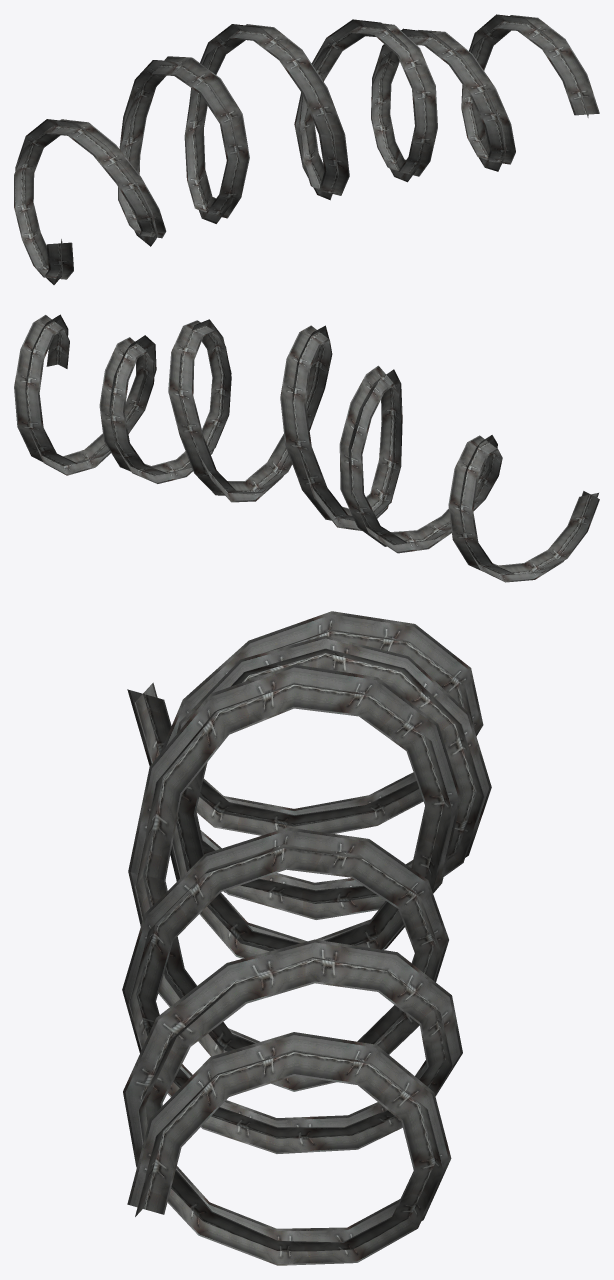
Rendered from Barbed_wire1.fbx.
The picture shows the model from 3 angles, top to bottom: view 1: azimuth 30°, elevation 25°; view 2: azimuth 150°, elevation 25°; view 3: azimuth 270°, elevation 25°; orthographic projection. The views are drawn at different scales.
Visible parts, largest first — view 1: polySurface329; view 2: polySurface329; view 3: polySurface329.
Boxes of the visible parts, x1,y1,x2,y2 form: polySurface329: (14,14,599,284); polySurface329: (14,314,599,582); polySurface329: (122,611,491,1265).
Size of the model in its own units: 5.19 by 1.73 by 1.51.
